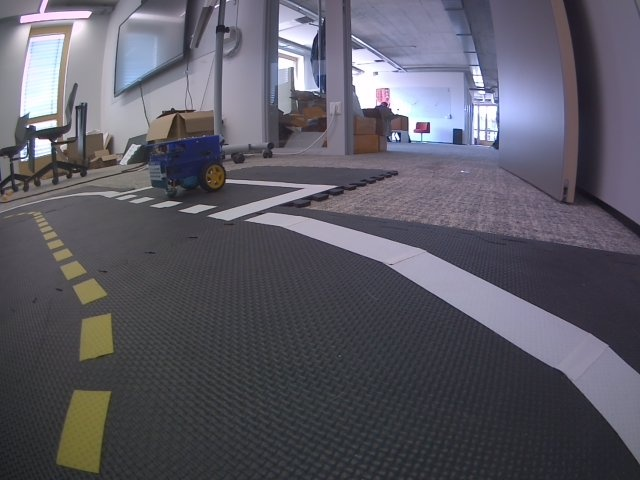Bot: (147, 134, 227, 196)
occupiedSlot: (112, 175, 337, 223)
